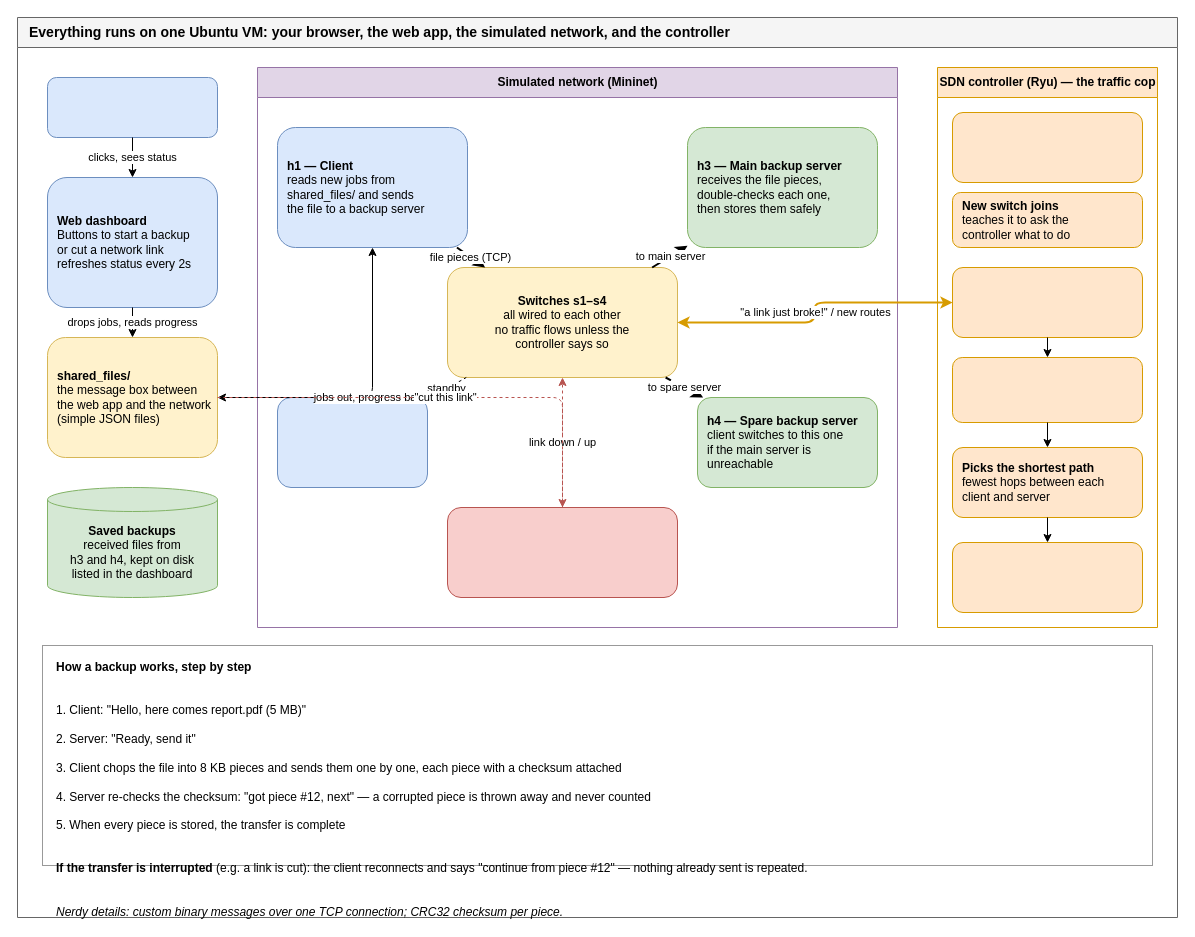
Some shapes in this 1195 by 937 pixel diagram are drawn without their labels. The shapes that lost their labels are listed below. From the top down, each one's centre as x and y in pixels, then its label:
At [132,107]: "Your browser open localhost:5000".
At [1047,147]: "Connects to all switches watches traffic every 5s".
At [1047,302]: "Listens for link changes hears when a cable goes down or comes back up".
At [1047,389]: "Rebuilds the map draws the network again with the latest link states".
At [352,442]: "h2 — Extra client spare client you can run by hand for testing".
At [562,552]: "Fault switch cuts or restores a link to test failure recovery".
At [1047,577]: "Updates the switches removes old routes, installs the new ones".
